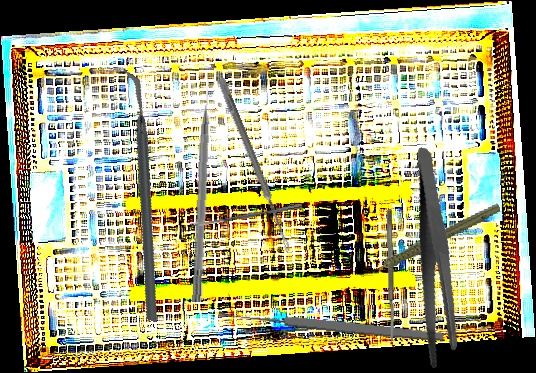Chopper: (44, 68, 237, 324)
Dressing Forceps: (381, 146, 490, 372)
Handpiece: (355, 202, 508, 276)
Pusher: (191, 78, 216, 303)
Spatula Surgical: (385, 208, 396, 343)
Surgical Spoon: (215, 77, 295, 254), (217, 307, 445, 344), (188, 203, 303, 228)
